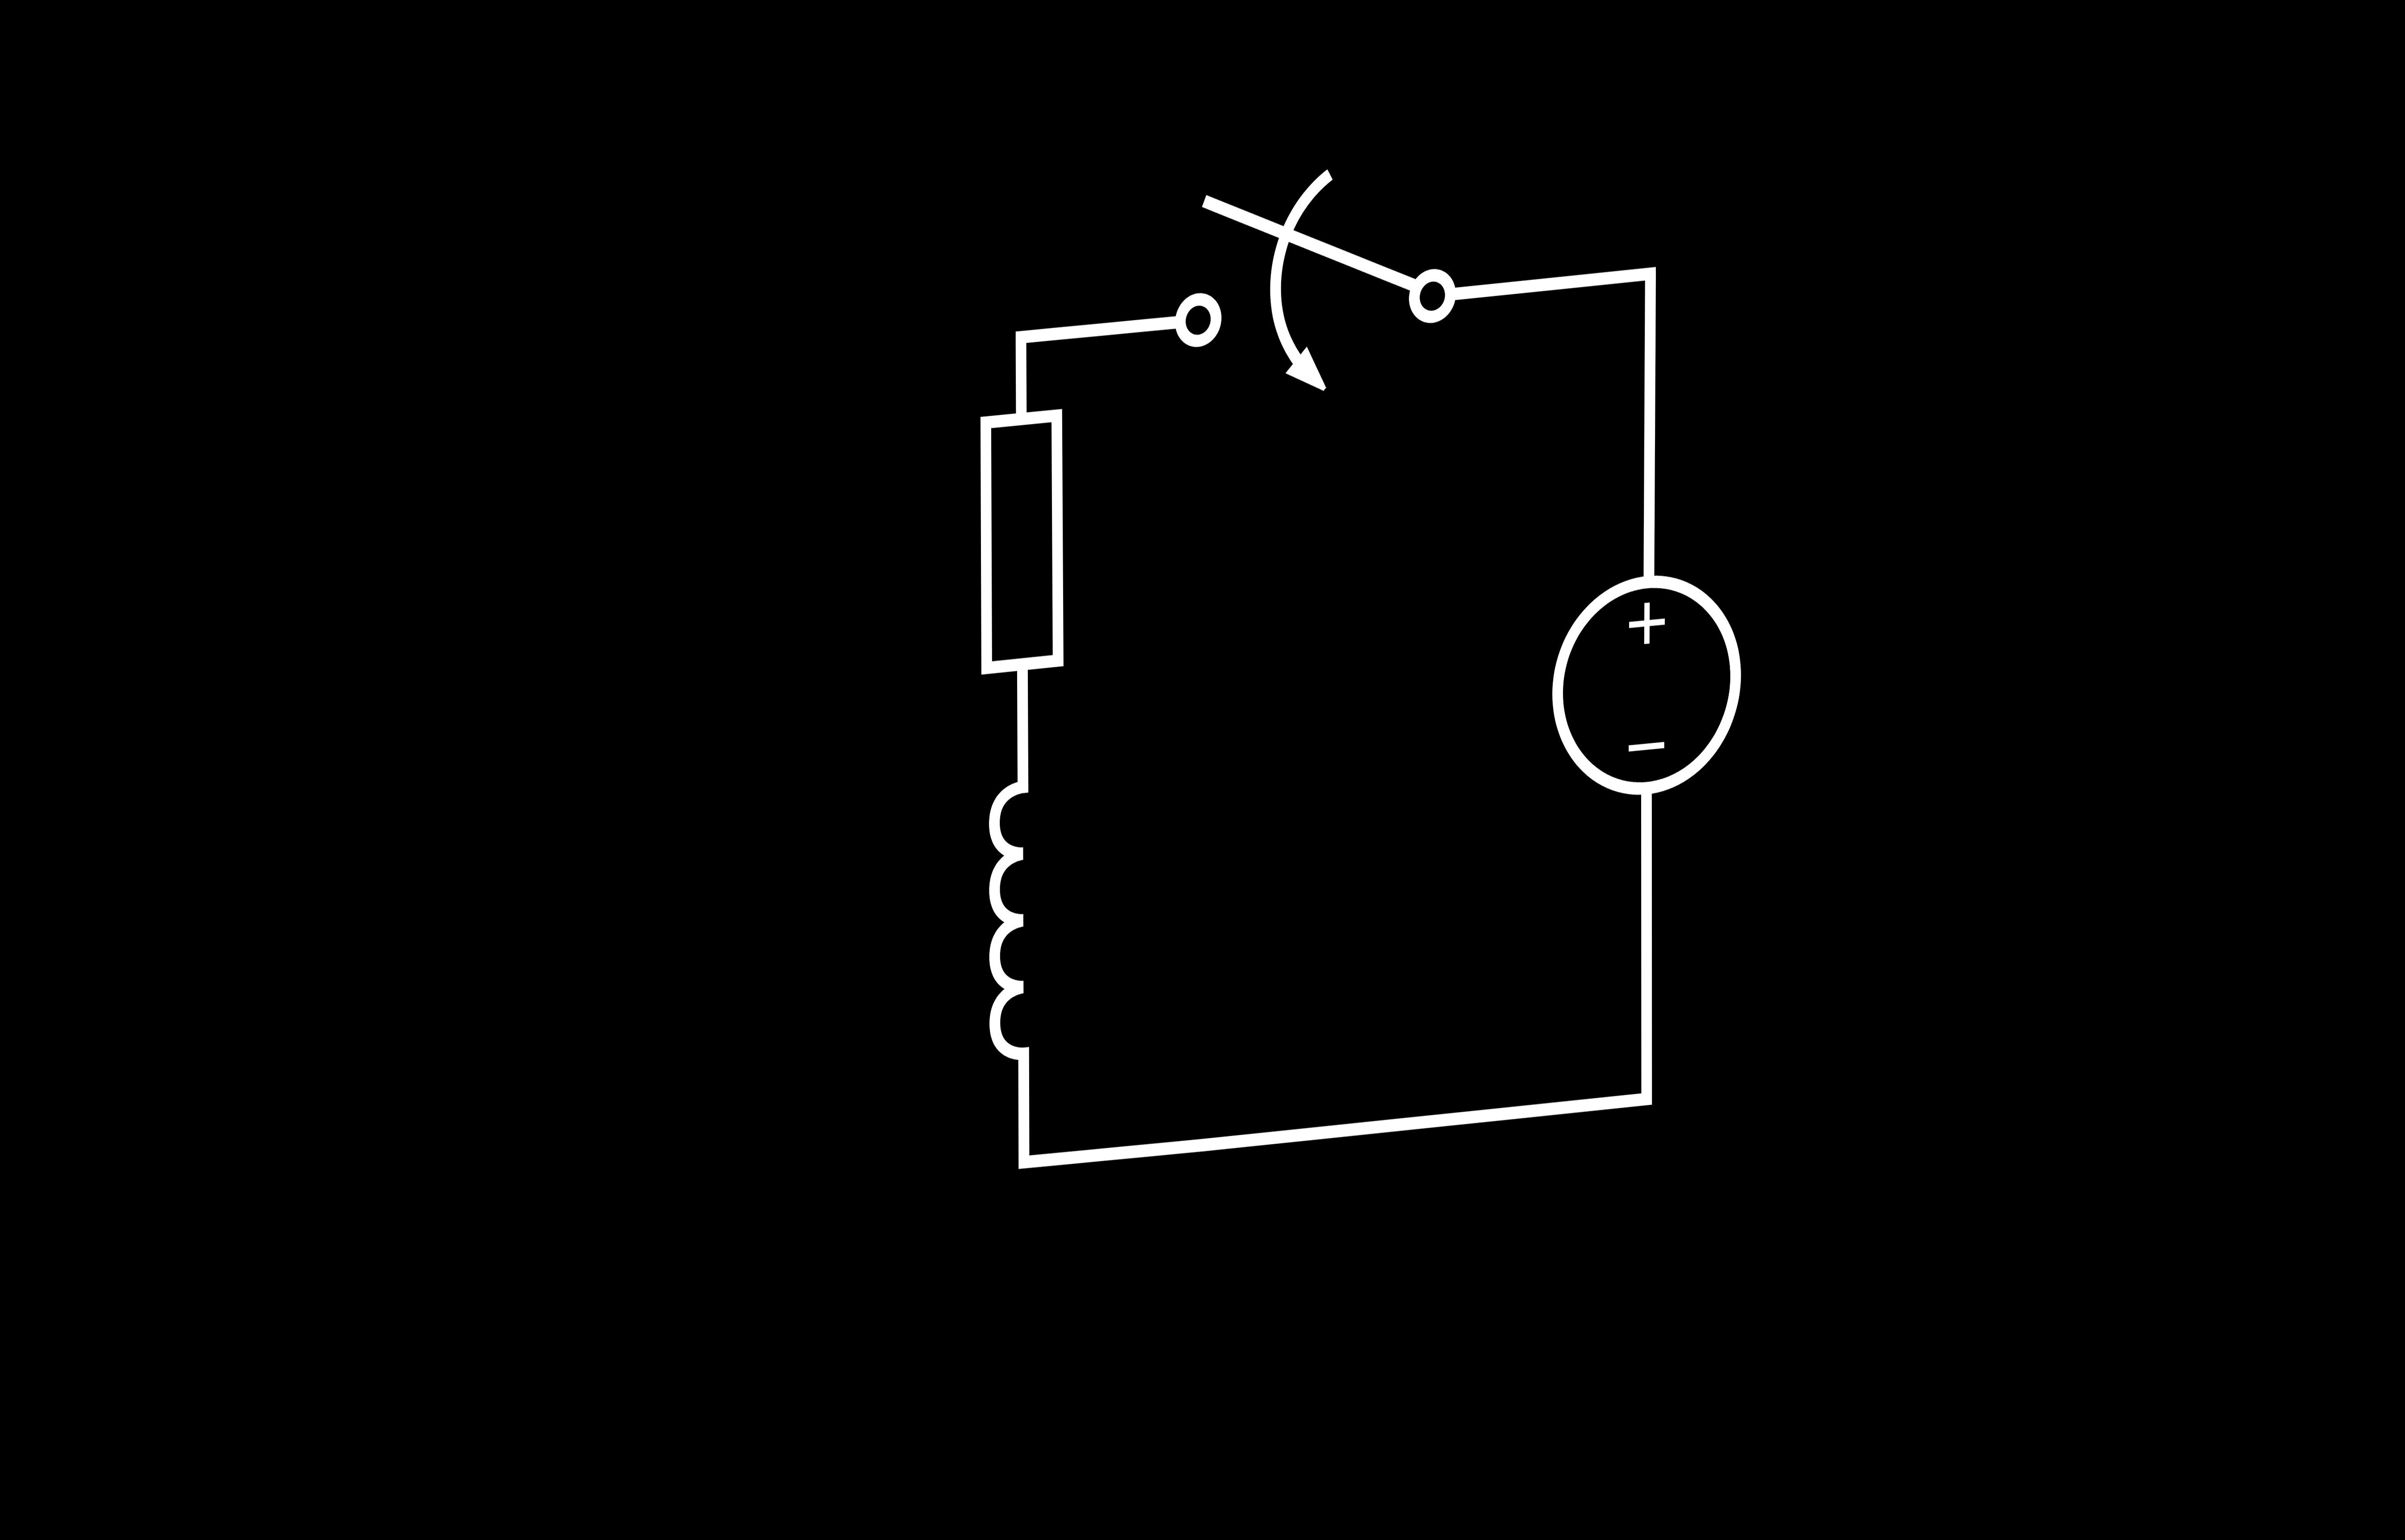Battery: (1483, 520, 1813, 855)
